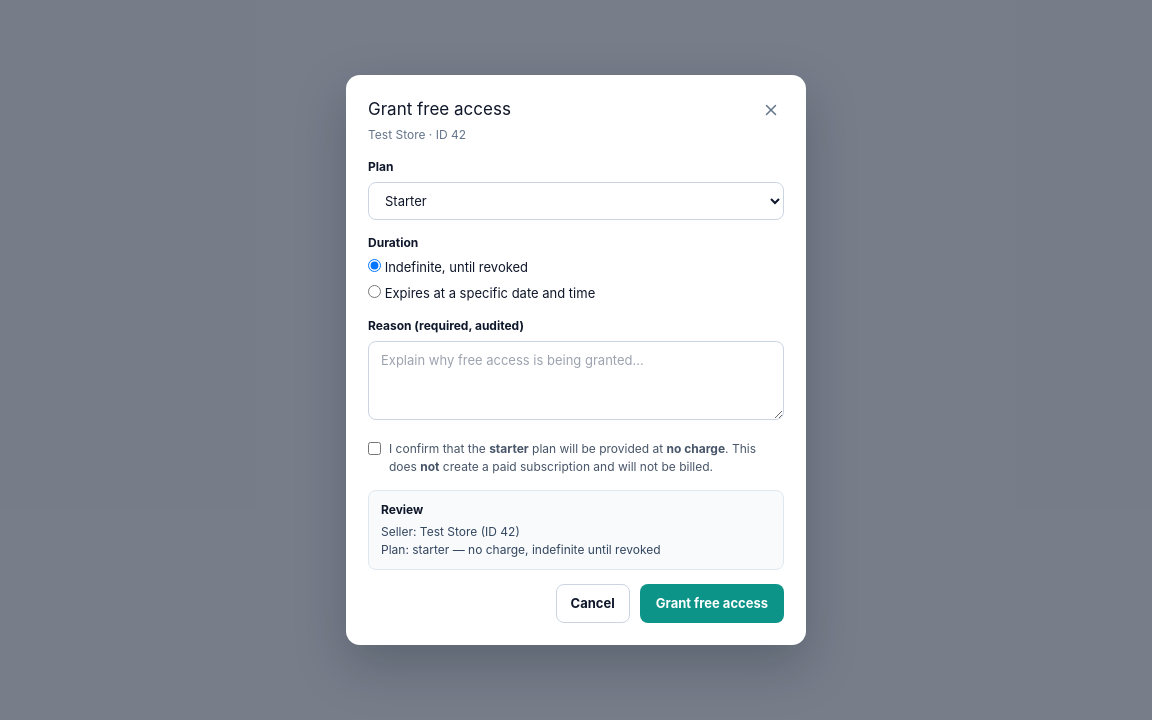
Test: FreeAccessModal validation › blocks submission without a reason
Click the checkbox: point(374, 448) x1=368 y1=442 x2=381 y2=455
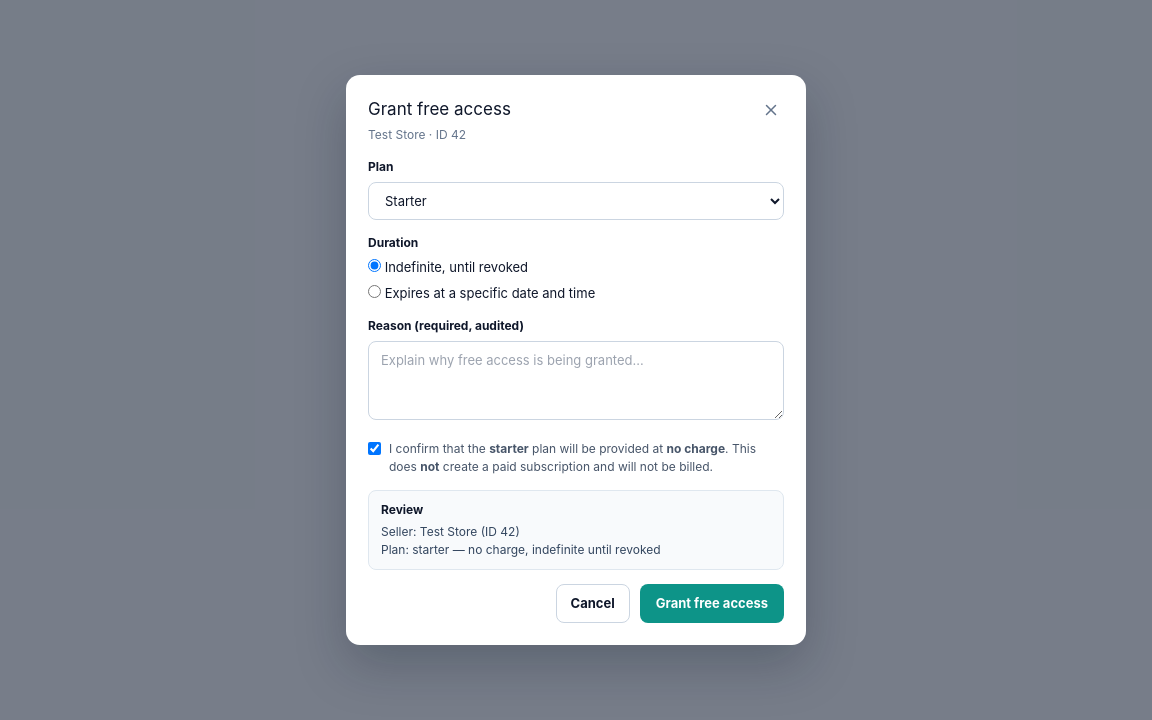
Click the button "Grant free access": point(712, 604) x1=640 y1=584 x2=784 y2=623
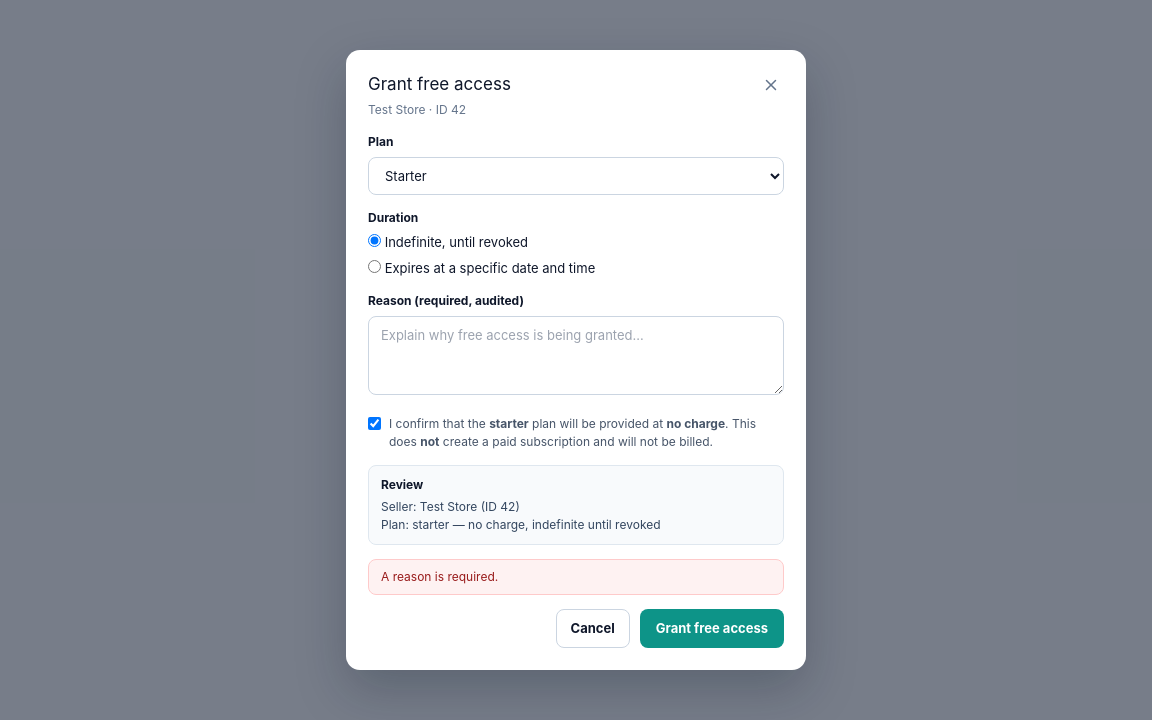
Check: the message shows "reason is required", box x1=381 y1=569 x2=498 y2=584
